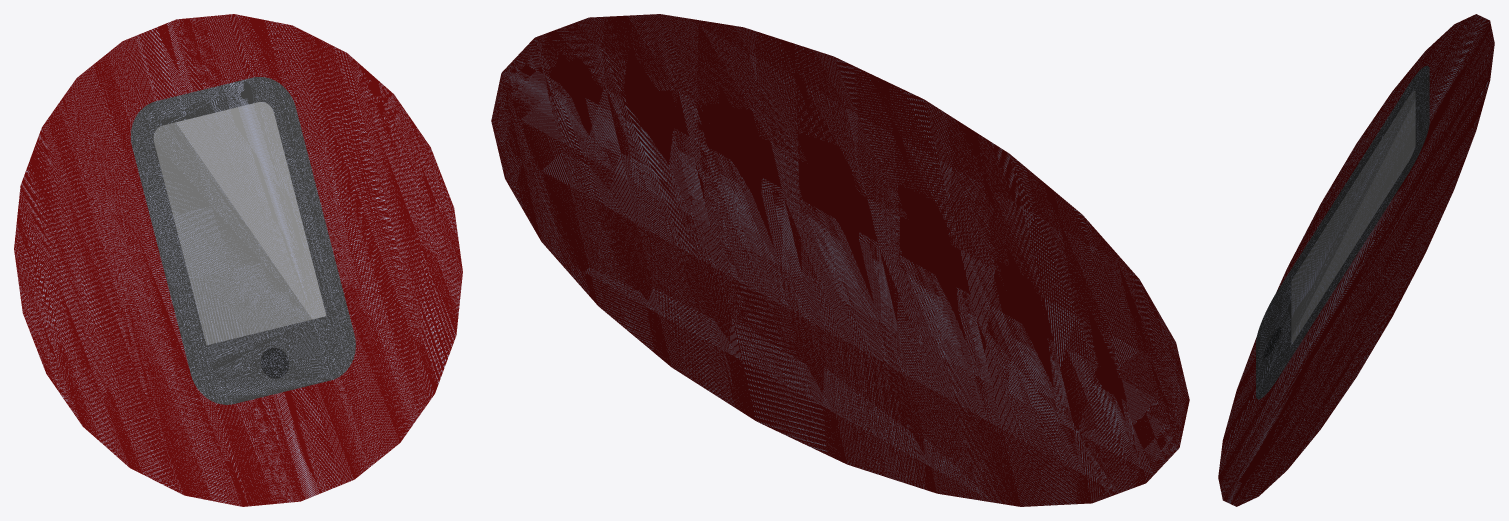
File: smartphone-original.dae
3 views of the same model, side by side, from view 1: azimuth 30°, elevation 25°; view 2: azimuth 150°, elevation 25°; view 3: azimuth 270°, elevation 25° (orthographic). The views are drawn at different scales.
Visible parts, largest first — view 1: group_0, group_1 (×5); view 2: group_0; view 3: group_0, group_1 (×4).
Part boxes in pixels (box(x1,y1,x2,y2)): group_0: box(14, 14, 462, 506); group_1 (×5): box(130, 77, 355, 404); group_0: box(491, 14, 1189, 506); group_0: box(1218, 14, 1494, 506); group_1 (×4): box(1256, 65, 1429, 399).
Size of the model in its own units: 134 by 67 by 116.
